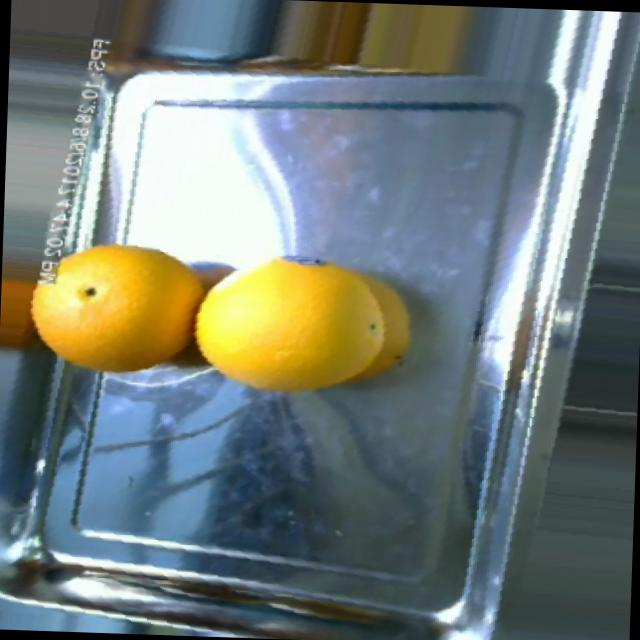Fruit: (174, 230, 400, 413), (12, 230, 239, 384)
